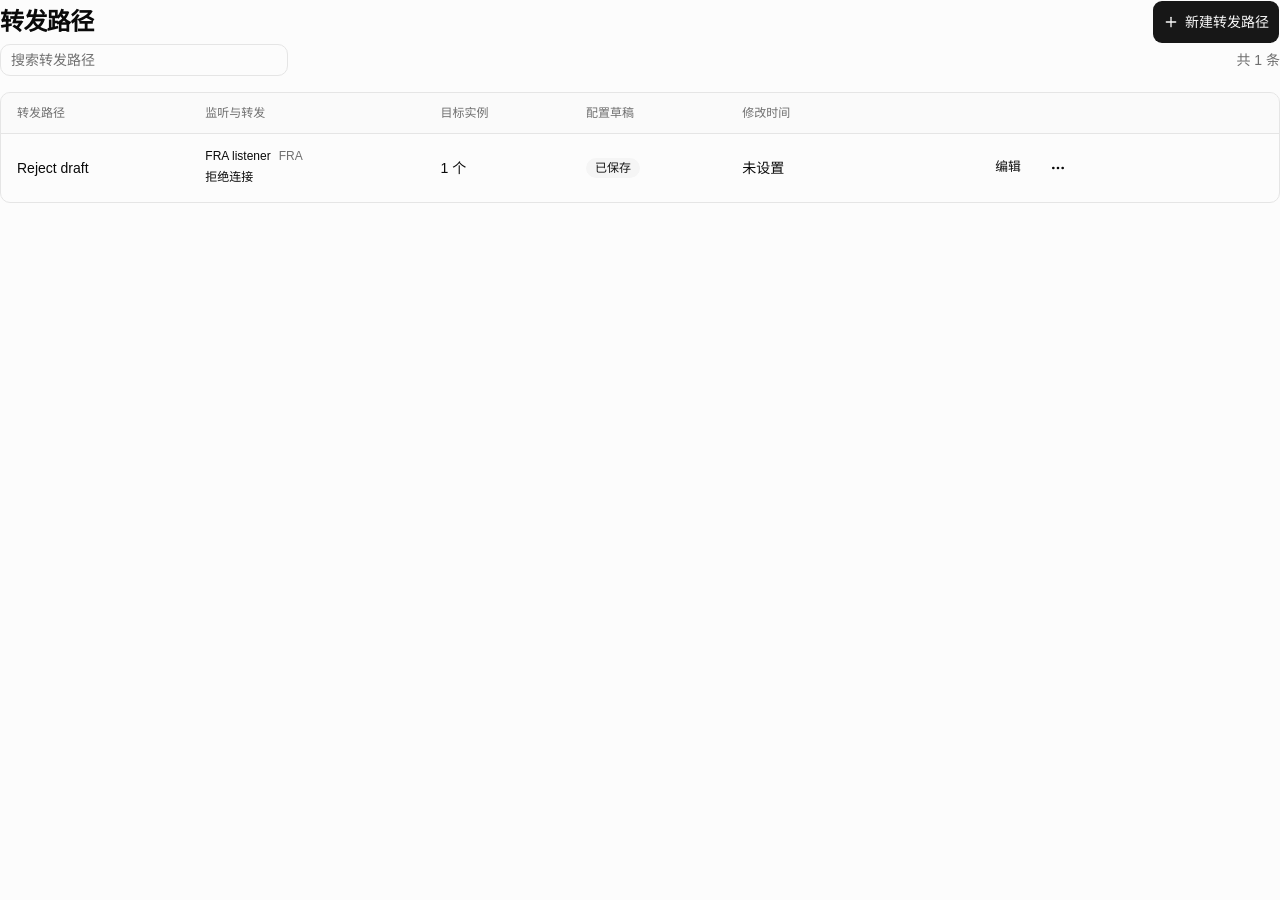
Scenario: keeps route editing direct and offers batch operations from the route's contextual menu
This screenshot has width=1280, height=900.
Expected: the button with aria-label "编辑转发路径 Reject draft" is shown, [984, 146, 1032, 190]
Expected: the button "批量操作" is not shown
Click the button named "更多转发路径操作 Reject draft" at (1058, 168), box [1036, 146, 1080, 190]
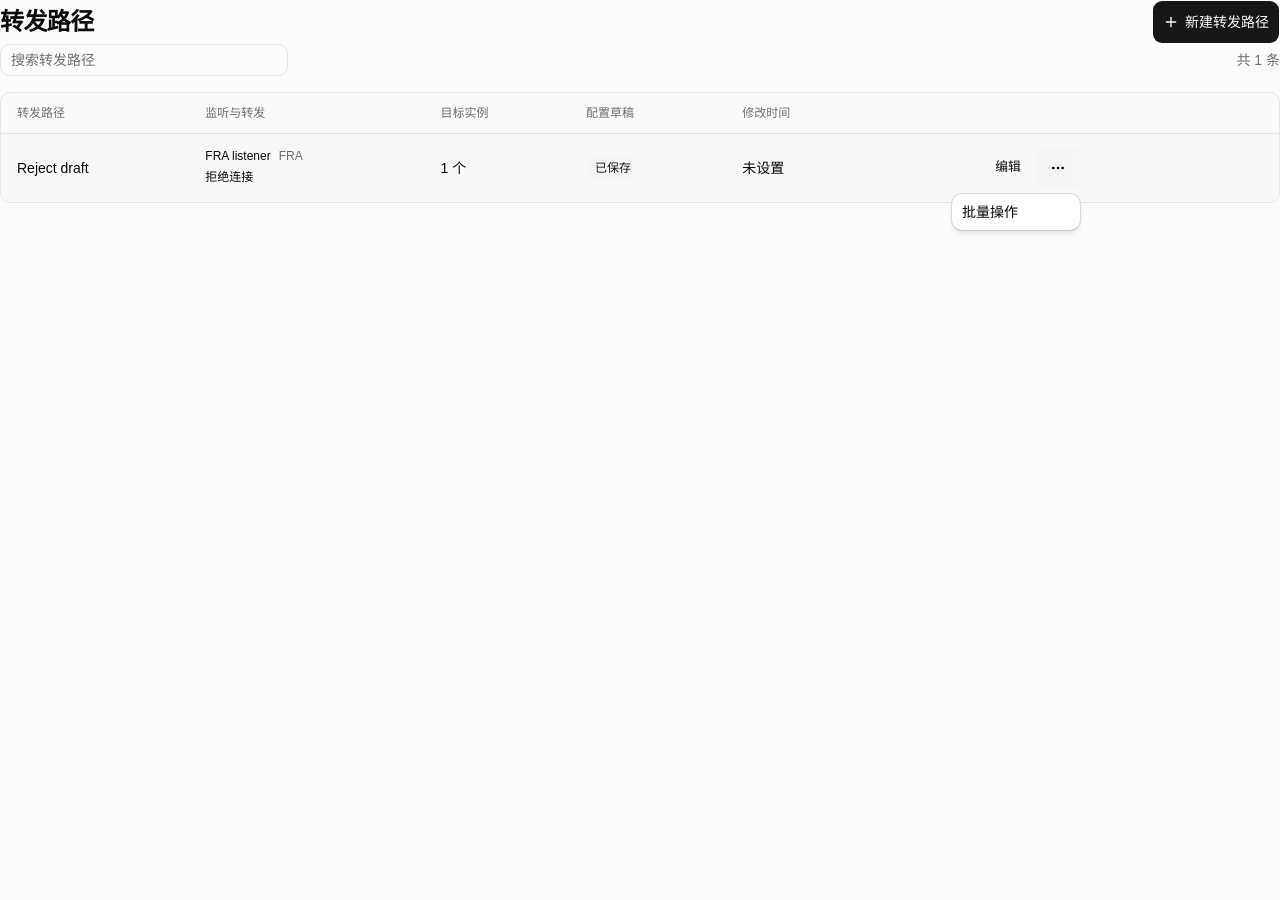
Click the menu item "批量操作" at (990, 212), box [962, 204, 1018, 220]
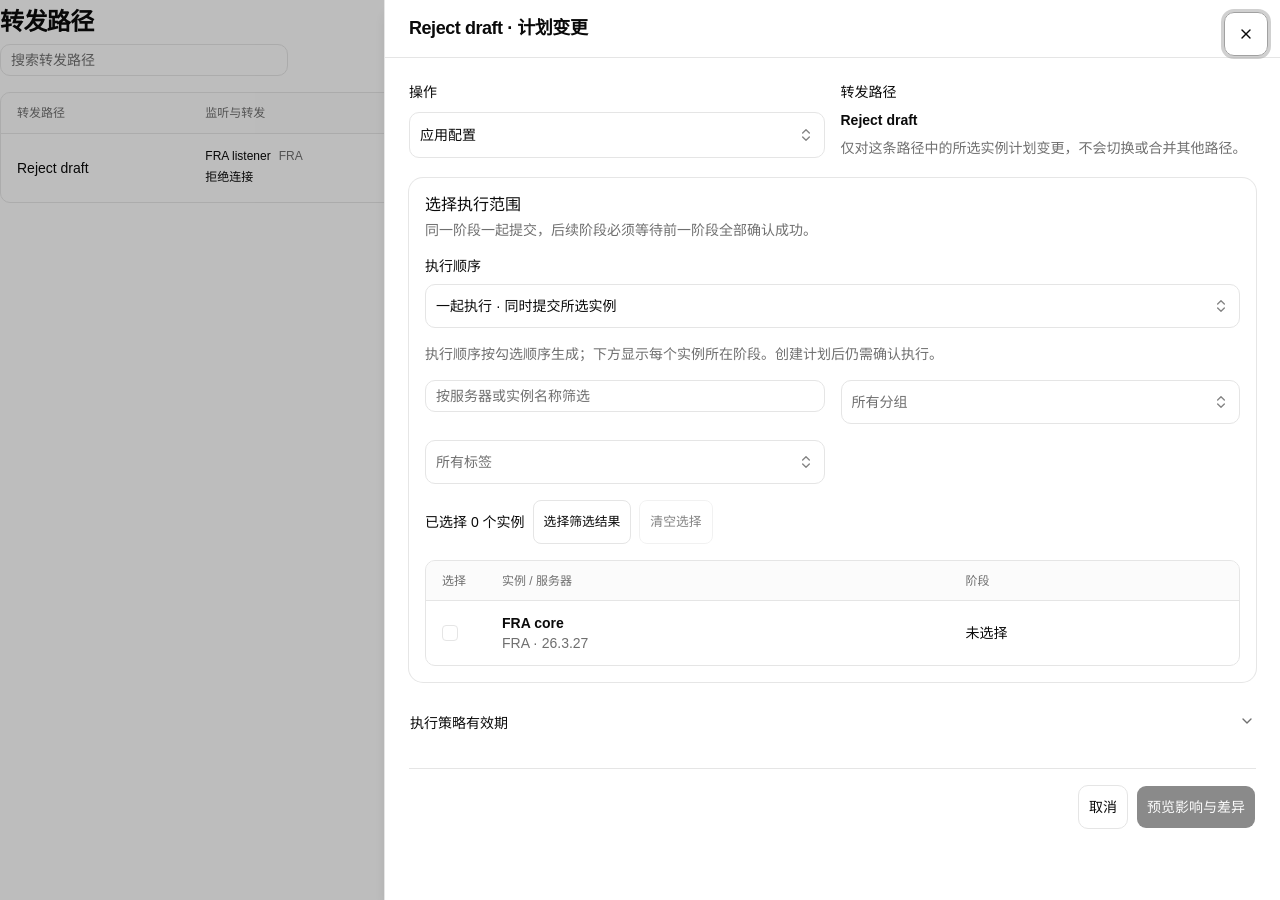
Expected: the dialog "Reject draft · 计划变更" is shown
